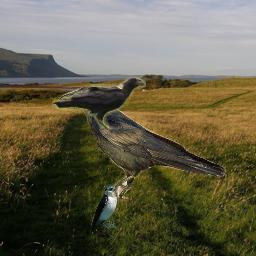Crow: (57, 85, 226, 199), (52, 77, 146, 129)
Swallow: (91, 185, 118, 228)
